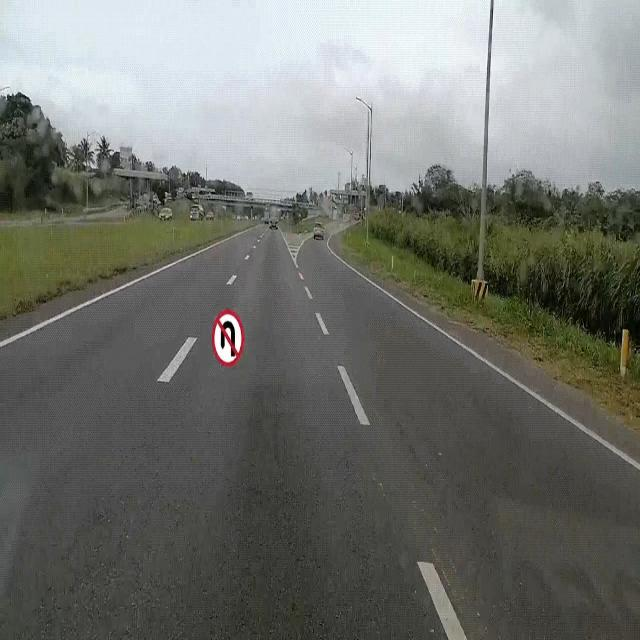Demi-Tour-Interdit: (210, 303, 246, 369)
